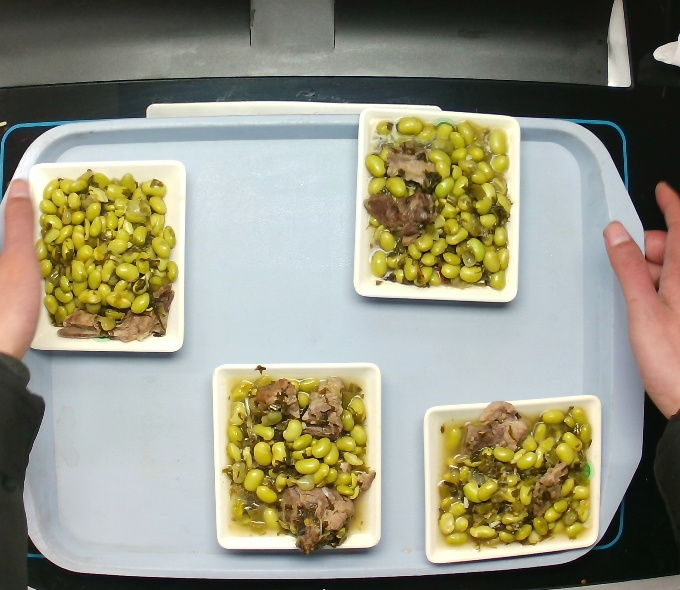wcq-ZhuRouDunDou: (224, 360, 377, 560), (359, 112, 515, 295), (37, 157, 184, 346), (425, 398, 599, 550)
